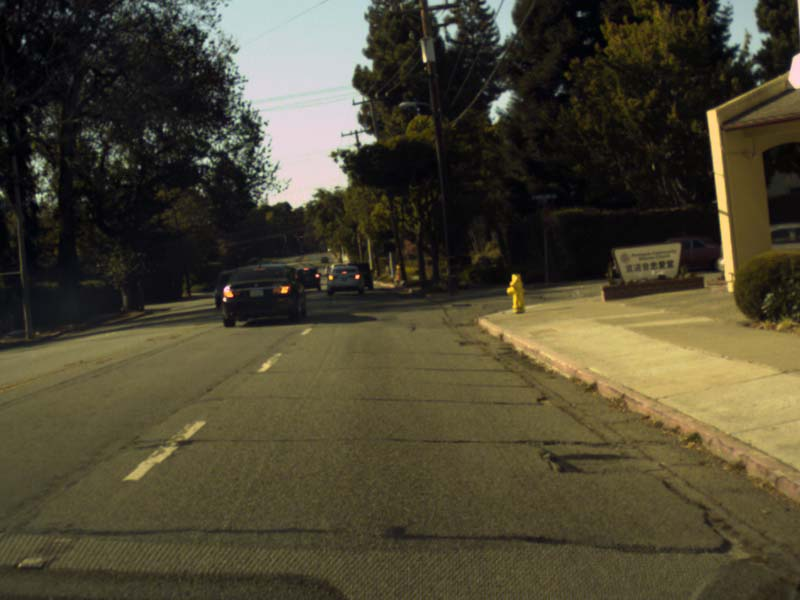Red: (299, 234, 303, 243)
